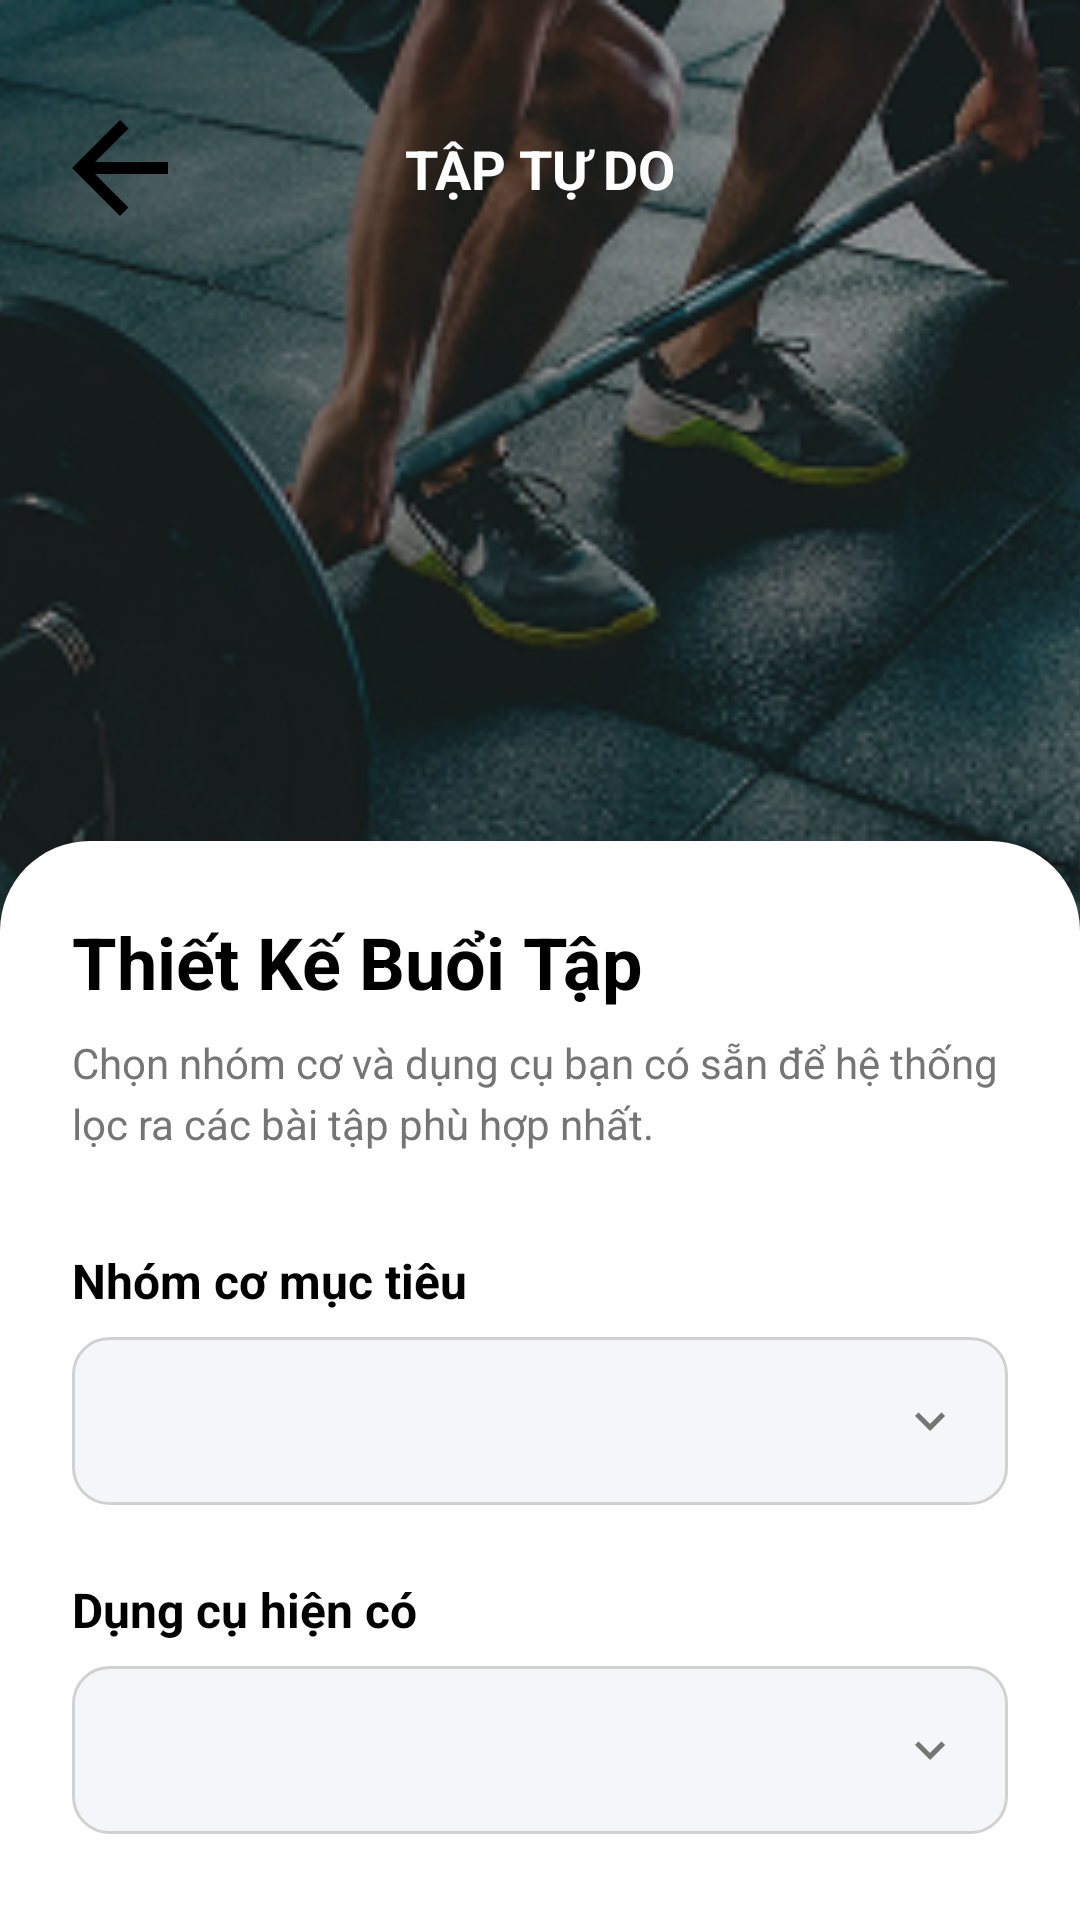

Icon click points for this 1080 × 1920 phone screenshot, format (x,y):
arrow back breakfast: (131,159)
chevron down: (930,1421), (930,1750)
